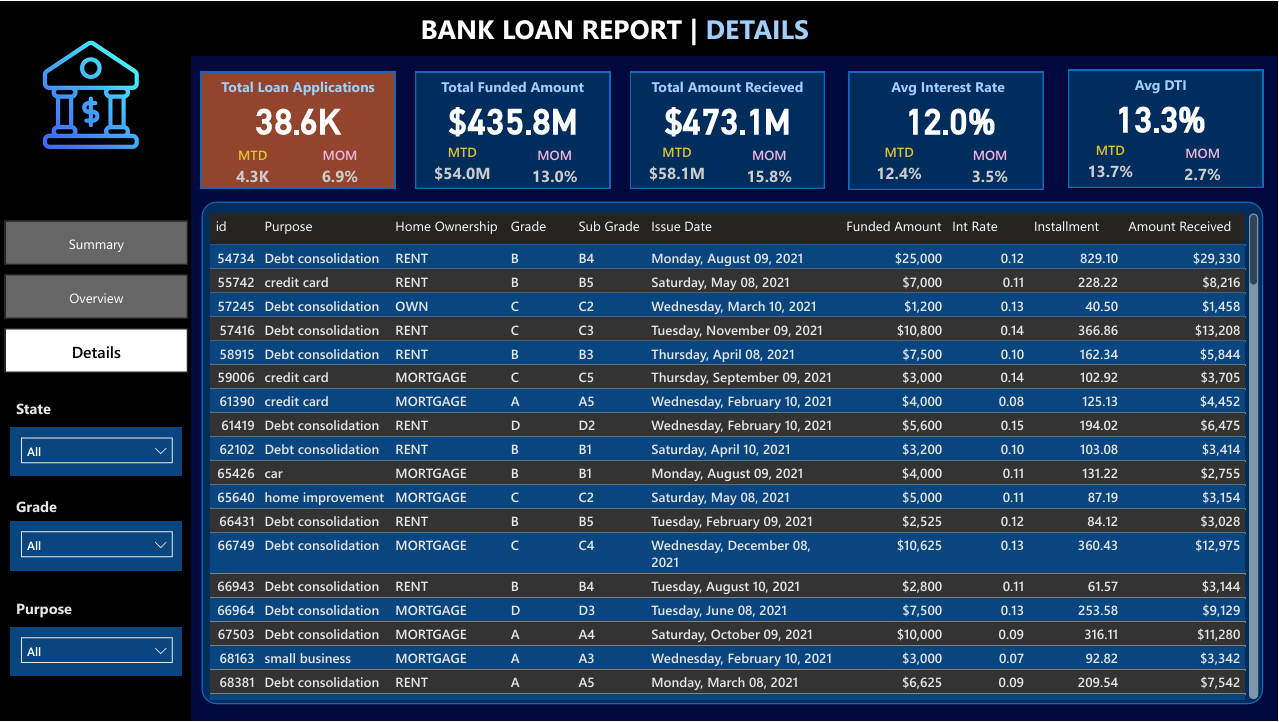

What the dashboard file says about the page in this screenshot:
{"tool":"powerbi","page":{"name":"Details","canvas":[1280,720],"ordinal":2},"visuals":[{"type":"shape","box":[1070.3,67.9,194.6,117.9],"z":0,"group":"g5"},{"type":"shape","box":[201.5,69.9,195.1,117.3],"z":0,"group":"g1"},{"type":"shape","box":[416.3,69.9,195.1,117.3],"z":0,"group":"g2"},{"type":"shape","box":[631.1,69.9,195.1,117.3],"z":0,"group":"g3"},{"type":"shape","box":[849.9,70.1,194.6,117.9],"z":0,"group":"g4"},{"type":"shape","box":[201.7,200,1063.3,503.3],"z":0},{"type":"shape","box":[0,0,1280,55],"z":1000},{"type":"card","fields":{"Values":["financial_loan.Avg DTI"]},"box":[1064.8,87,195.1,54.8],"z":1000,"group":"g5"},{"type":"card","fields":{"Values":["financial_loan.Total Loan Applications"]},"box":[201.5,89,195.1,54.8],"z":1000,"group":"g1"},{"type":"card","fields":{"Values":["financial_loan.Total Funded Amount"]},"box":[416.3,89,195.1,54.8],"z":1000,"group":"g2"},{"type":"card","fields":{"Values":["financial_loan.Total Amount Recieved"]},"box":[631.1,89,195.1,54.8],"z":1000,"group":"g3"},{"type":"card","fields":{"Values":["financial_loan.AVG Inerest Rate"]},"box":[853.7,89.2,195.1,54.8],"z":1000,"group":"g4"},{"type":"shape","box":[0,54.8,192,665.5],"z":2000},{"type":"textbox","box":[1064.8,67.9,195.1,37],"z":2000,"group":"g5"},{"type":"textbox","box":[201.5,69.9,195.1,37],"z":2000,"group":"g1"},{"type":"textbox","box":[416.3,69.9,195.1,37],"z":2000,"group":"g2"},{"type":"textbox","box":[631.1,69.9,195.1,37],"z":2000,"group":"g3"},{"type":"textbox","box":[851.8,70.1,195.1,37],"z":2000,"group":"g4"},{"type":"textbox","box":[415.6,2.5,447.5,49.7],"z":3000},{"type":"card","title":"MTD","fields":{"Values":["financial_loan.MTD Avg DTI"]},"box":[1077.4,138.9,68.5,46.6],"z":3000,"group":"g5"},{"type":"card","title":"MTD","fields":{"Values":["financial_loan.MTD Funded Amount"]},"box":[428.9,140.9,68.5,46.6],"z":3000,"group":"g2"},{"type":"card","title":"MTD","fields":{"Values":["financial_loan.MTD Total Amount Recieved"]},"box":[643.7,140.9,68.5,46.6],"z":3000,"group":"g3"},{"type":"card","title":"MTD","fields":{"Values":["financial_loan.MTD Avg Int Rate"]},"box":[866.3,141.1,68.5,46.6],"z":3000,"group":"g4"},{"type":"card","title":"MTD","fields":{"Values":["financial_loan.MTD Loan Applications"]},"box":[224.3,144,57.7,43.3],"z":3000,"group":"g1"},{"type":"group","id":"g1","title":"Group 1","box":[201.5,69.9,194.6,117.9],"z":4000},{"type":"card","title":"MOM","fields":{"Values":["financial_loan.MOM Avg DTI"]},"box":[1175.5,142,57.7,43.3],"z":4000,"group":"g5"},{"type":"card","title":"MOM","fields":{"Values":["financial_loan.MOM Loan Applications"]},"box":[312.2,144,57.7,43.3],"z":4000,"group":"g1"},{"type":"card","title":"MOM","fields":{"Values":["financial_loan.MOM Total Funded Amount"]},"box":[527,144,57.7,43.3],"z":4000,"group":"g2"},{"type":"card","title":"MOM","fields":{"Values":["financial_loan.MOM Total Amount Recieved"]},"box":[741.8,144,57.7,43.3],"z":4000,"group":"g3"},{"type":"card","title":"MOM","fields":{"Values":["financial_loan.MOM Avg Int Rate"]},"box":[962.5,144.2,57.7,43.3],"z":4000,"group":"g4"},{"type":"group","id":"g2","title":"Group 1","box":[416.3,69.9,194.6,117.9],"z":5000},{"type":"group","id":"g3","title":"Group 1","box":[631.1,69.9,194.6,117.9],"z":6000},{"type":"group","id":"g4","title":"Group 1","box":[849.9,70.1,198.7,117.9],"z":7000},{"type":"group","id":"g5","title":"Group 1","box":[1064.8,67.9,200.1,117.9],"z":8000},{"type":"slicer","fields":{"Values":["financial_loan.address_state"]},"box":[11.3,425.9,171.3,49.3],"z":9000},{"type":"textbox","box":[11.3,391.6,71.3,34.3],"z":10000},{"type":"slicer","fields":{"Values":["financial_loan.grade"]},"box":[11.3,520.5,171.3,49.3],"z":11000},{"type":"textbox","box":[11.3,490.3,71.3,34.3],"z":12000},{"type":"slicer","fields":{"Values":["financial_loan.purpose"]},"box":[11.3,626,171.3,49.3],"z":13000},{"type":"textbox","box":[11.1,591.9,97.5,34.6],"z":14000},{"type":"tableEx","fields":{"Values":["financial_loan.id","financial_loan.purpose","financial_loan.home_ownership","financial_loan.grade","financial_loan.sub_grade","financial_loan.issue_date","financial_loan.Total Funded Amount","Sum(financial_loan.int_rate)","Sum(financial_loan.installment)","financial_loan.Total Amount Recieved"]},"box":[205,206.7,1060,496.7],"z":15000},{"type":"image","box":[7.5,17.5,165,150],"z":16000},{"type":"pageNavigator","box":[5,218.8,182.5,153.8],"z":17000}]}

Visuals, with their boxes in screenshot pixels (x1, y1, x2, y2), scaled from the page's 1280x720 canvas onto the 1279x722 screenshot:
shape: bbox(1069, 68, 1264, 186)
shape: bbox(201, 70, 396, 188)
shape: bbox(416, 70, 611, 188)
shape: bbox(631, 70, 826, 188)
shape: bbox(849, 70, 1044, 189)
shape: bbox(202, 201, 1264, 705)
shape: bbox(0, 0, 1278, 55)
card - financial_loan.Avg DTI: bbox(1064, 87, 1259, 142)
card - financial_loan.Total Loan Applications: bbox(201, 89, 396, 144)
card - financial_loan.Total Funded Amount: bbox(416, 89, 611, 144)
card - financial_loan.Total Amount Recieved: bbox(631, 89, 826, 144)
card - financial_loan.AVG Inerest Rate: bbox(853, 89, 1048, 144)
shape: bbox(0, 55, 192, 721)
textbox: bbox(1064, 68, 1259, 105)
textbox: bbox(201, 70, 396, 107)
textbox: bbox(416, 70, 611, 107)
textbox: bbox(631, 70, 826, 107)
textbox: bbox(851, 70, 1046, 107)
textbox: bbox(415, 3, 862, 52)
"MTD" card: bbox(1077, 139, 1145, 186)
"MTD" card: bbox(429, 141, 497, 188)
"MTD" card: bbox(643, 141, 712, 188)
"MTD" card: bbox(866, 141, 934, 188)
"MTD" card: bbox(224, 144, 282, 188)
"Group 1" group: bbox(201, 70, 396, 188)
"MOM" card: bbox(1175, 142, 1232, 186)
"MOM" card: bbox(312, 144, 370, 188)
"MOM" card: bbox(527, 144, 584, 188)
"MOM" card: bbox(741, 144, 799, 188)
"MOM" card: bbox(962, 145, 1019, 188)
"Group 1" group: bbox(416, 70, 610, 188)
"Group 1" group: bbox(631, 70, 825, 188)
"Group 1" group: bbox(849, 70, 1048, 189)
"Group 1" group: bbox(1064, 68, 1264, 186)
slicer - financial_loan.address_state: bbox(11, 427, 182, 477)
textbox: bbox(11, 393, 83, 427)
slicer - financial_loan.grade: bbox(11, 522, 182, 571)
textbox: bbox(11, 492, 83, 526)
slicer - financial_loan.purpose: bbox(11, 628, 182, 677)
textbox: bbox(11, 594, 109, 628)
tableEx - financial_loan.id x financial_loan.purpose: bbox(205, 207, 1264, 705)
image: bbox(7, 18, 172, 168)
pageNavigator: bbox(5, 219, 187, 374)
